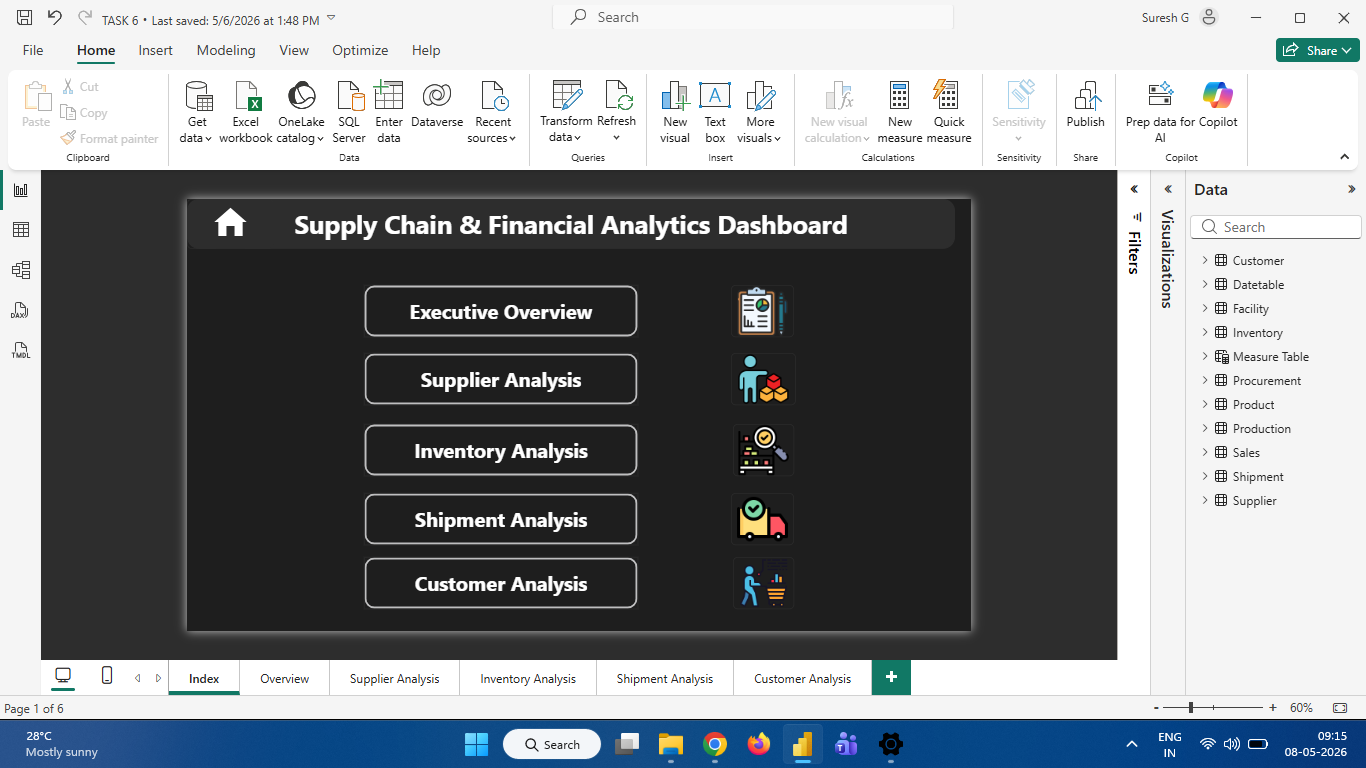

What the dashboard file says about the page in this screenshot:
{"tool":"powerbi","page":{"name":"Index","canvas":[1280,720],"ordinal":0},"visuals":[{"type":"actionButton","box":[295,143.3,456.7,86.7],"z":0},{"type":"actionButton","box":[295,256.7,456.7,86.7],"z":1},{"type":"actionButton","box":[295,375,456.7,86.7],"z":2},{"type":"actionButton","box":[295,490,456.7,86.7],"z":3},{"type":"actionButton","box":[295,596.7,456.7,86.7],"z":4},{"type":"textbox","box":[0,0,1280,83.3],"z":5},{"type":"image","box":[906.7,143.3,108.3,86.7],"z":6},{"type":"image","box":[906.7,256.7,108.3,86.7],"z":7},{"type":"image","box":[906.7,375,111.7,86.7],"z":8},{"type":"image","box":[906.7,490,111.7,86.7],"z":9},{"type":"image","box":[910,596.7,108.3,86.7],"z":10},{"type":"image","box":[0,6.7,116.7,68.3],"z":11}]}

Visuals, with their boxes on the page's 1280x720 design canvas (x1, y1, x2, y2). These are canvas units, not pixel positions in the 1366x768 screenshot, which may show the page scaled, cropped or inside an application window:
actionButton: crop(295, 143, 752, 230)
actionButton: crop(295, 257, 752, 343)
actionButton: crop(295, 375, 752, 462)
actionButton: crop(295, 490, 752, 577)
actionButton: crop(295, 597, 752, 683)
textbox: crop(0, 0, 1280, 83)
image: crop(907, 143, 1015, 230)
image: crop(907, 257, 1015, 343)
image: crop(907, 375, 1018, 462)
image: crop(907, 490, 1018, 577)
image: crop(910, 597, 1018, 683)
image: crop(0, 7, 117, 75)
